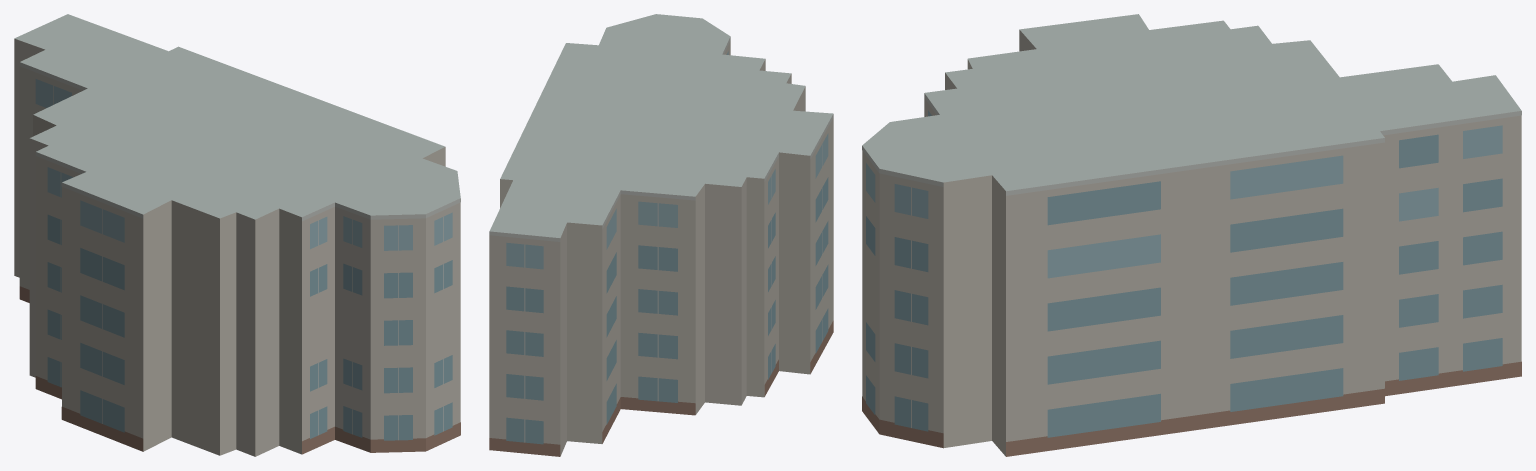
The model's file is survey-upis-32707056.glb.
3 views of the same model, side by side, from view 1: azimuth 30°, elevation 25°; view 2: azimuth 150°, elevation 25°; view 3: azimuth 270°, elevation 25° (orthographic). The views are drawn at different scales.
Parts seen in each view (by area): view 1: survey-upis-32707056.tmp; view 2: survey-upis-32707056.tmp; view 3: survey-upis-32707056.tmp.
Part boxes in pixels (x1,y1,x2,y2): survey-upis-32707056.tmp: (14, 14, 460, 456); survey-upis-32707056.tmp: (489, 14, 833, 456); survey-upis-32707056.tmp: (862, 14, 1521, 456).
Bounding box in the file's own units: 19.9 × 13.9 × 31.29.
